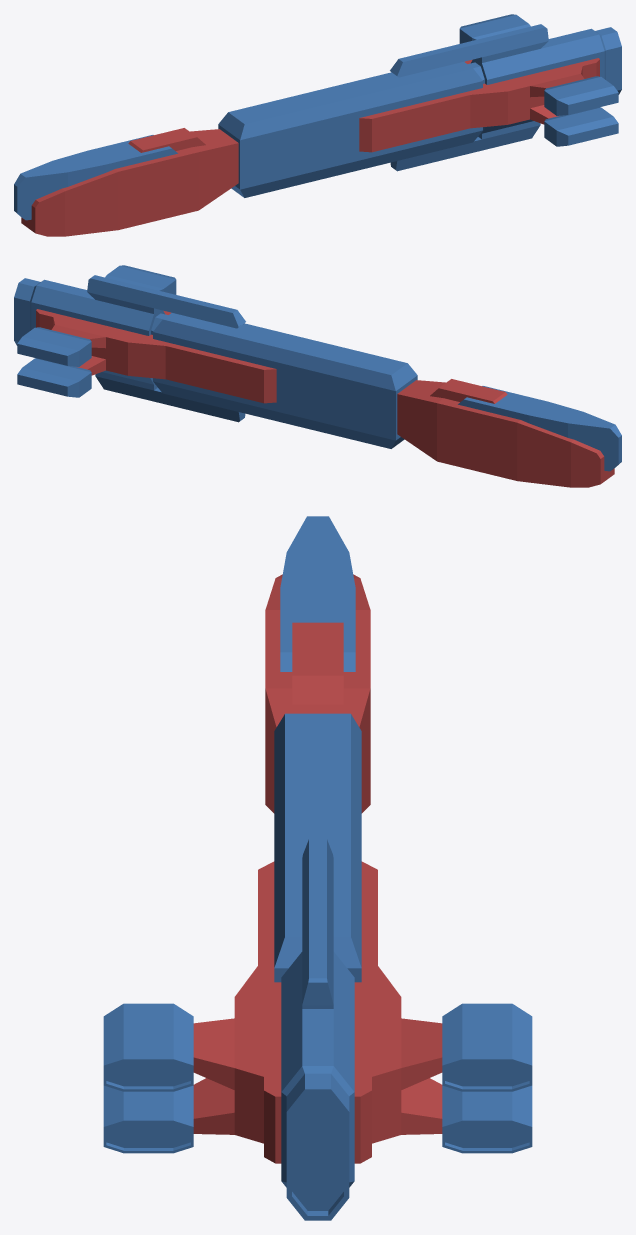
File: 2_wraith.FBX
The picture shows the model from 3 angles, top to bottom: view 1: azimuth 30°, elevation 25°; view 2: azimuth 150°, elevation 25°; view 3: azimuth 270°, elevation 25°; orthographic projection. The views are drawn at different scales.
Parts seen in each view (by area): view 1: Box007; view 2: Box007; view 3: Box007.
Boxes of the visible parts, x1,y1,x2,y2 form: Box007: (14, 14, 621, 236); Box007: (14, 265, 621, 487); Box007: (103, 516, 532, 1220).
Size of the model in its own units: 187 by 32.26 by 58.16.
1 material, 1 textured.
